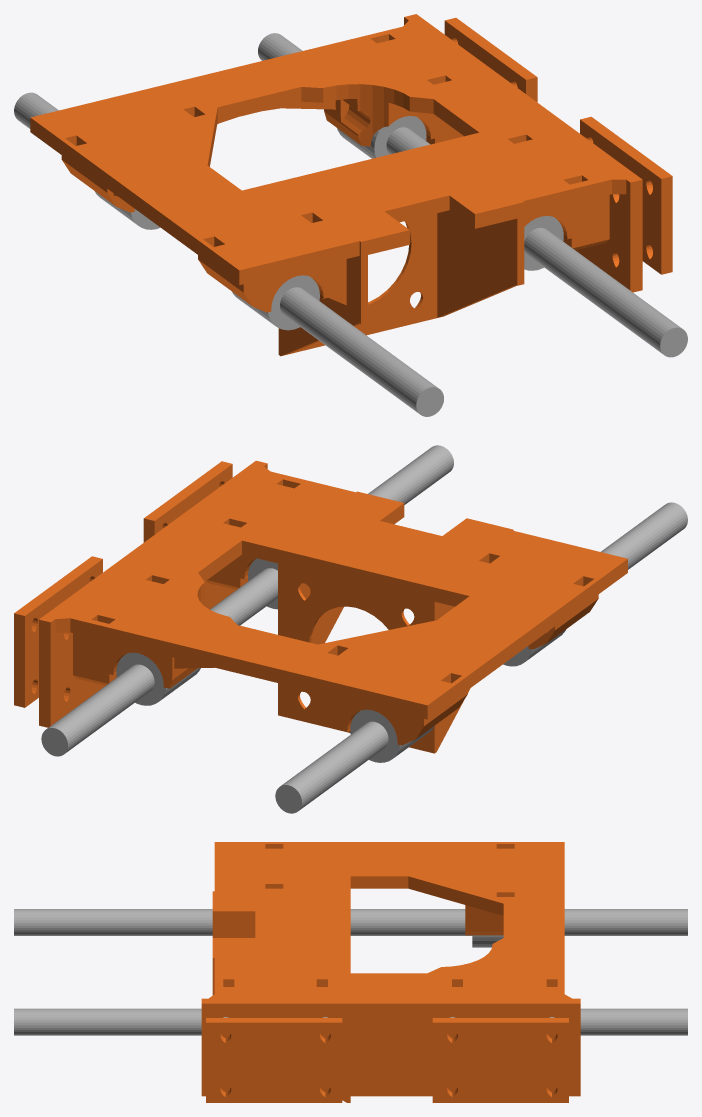
Rendered from chariot293_1_light.gltf.
3 renders of one model, top to bottom at view 1: azimuth 30°, elevation 25°; view 2: azimuth 150°, elevation 25°; view 3: azimuth 270°, elevation 25°, orthographic. The views are drawn at different scales.
Visible parts, largest first — view 1: Cube.041, Cylinder.017, Cube.009, Cube.010; view 2: Cube.041, Cylinder.017, Cube.010, Cube.009; view 3: Cube.041, Cylinder.017, Cube.009, Cube.010.
Part boxes in pixels (<box>): Cube.041: <box>30,14,642,356</box>; Cylinder.017: <box>14,33,687,416</box>; Cube.009: <box>580,116,672,274</box>; Cube.010: <box>444,17,537,102</box>; Cube.041: <box>39,460,627,753</box>; Cylinder.017: <box>41,445,687,813</box>; Cube.010: <box>14,556,102,707</box>; Cube.009: <box>143,461,232,542</box>; Cube.041: <box>201,842,580,1102</box>; Cylinder.017: <box>14,909,687,1035</box>; Cube.009: <box>206,1018,342,1102</box>; Cube.010: <box>432,1018,568,1102</box>.
Size of the model in its own units: 123 by 47.48 by 200.
